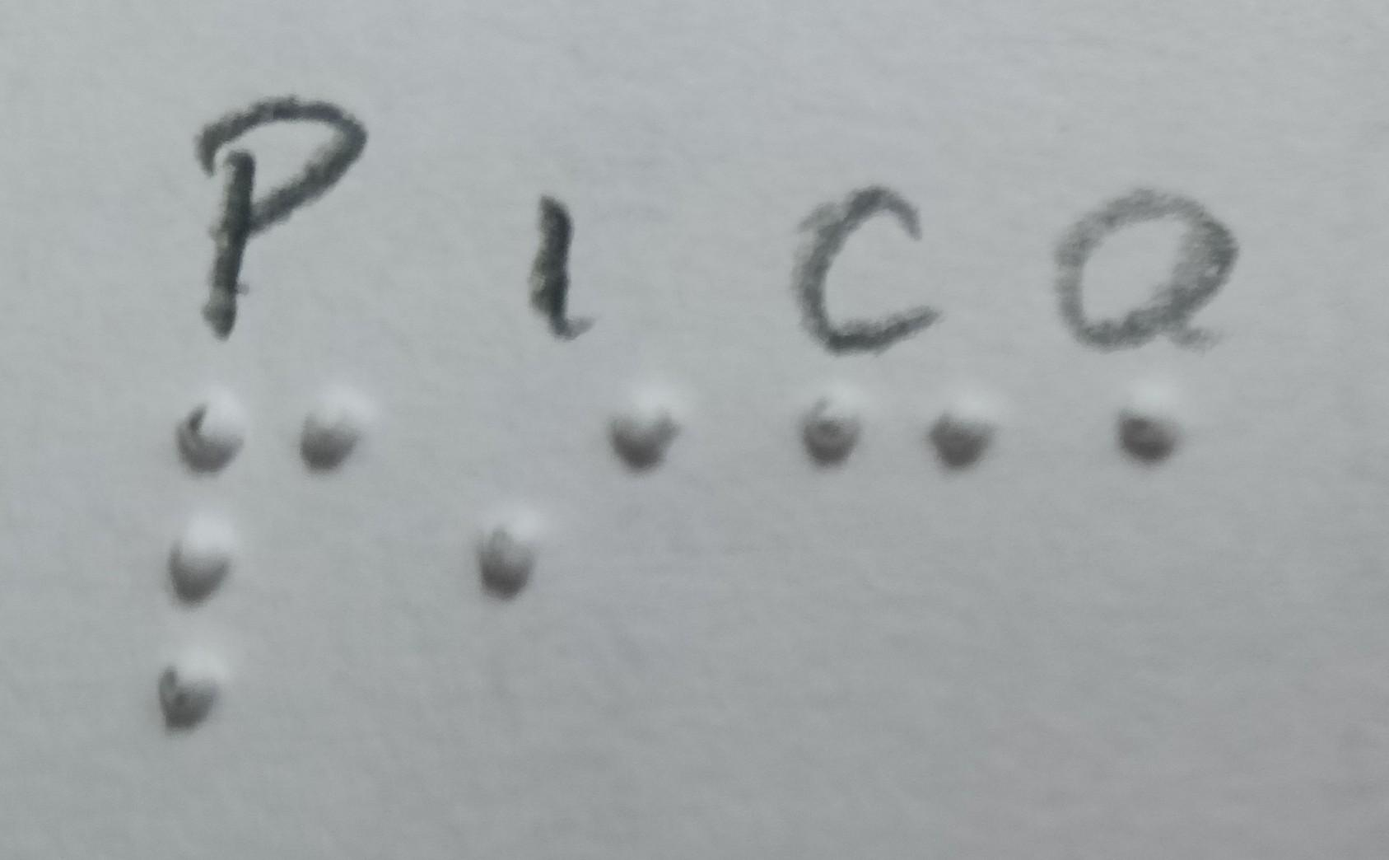a: (1027, 354, 1268, 519)
c: (749, 354, 1009, 523)
i: (436, 358, 704, 645)
p: (128, 356, 379, 762)
